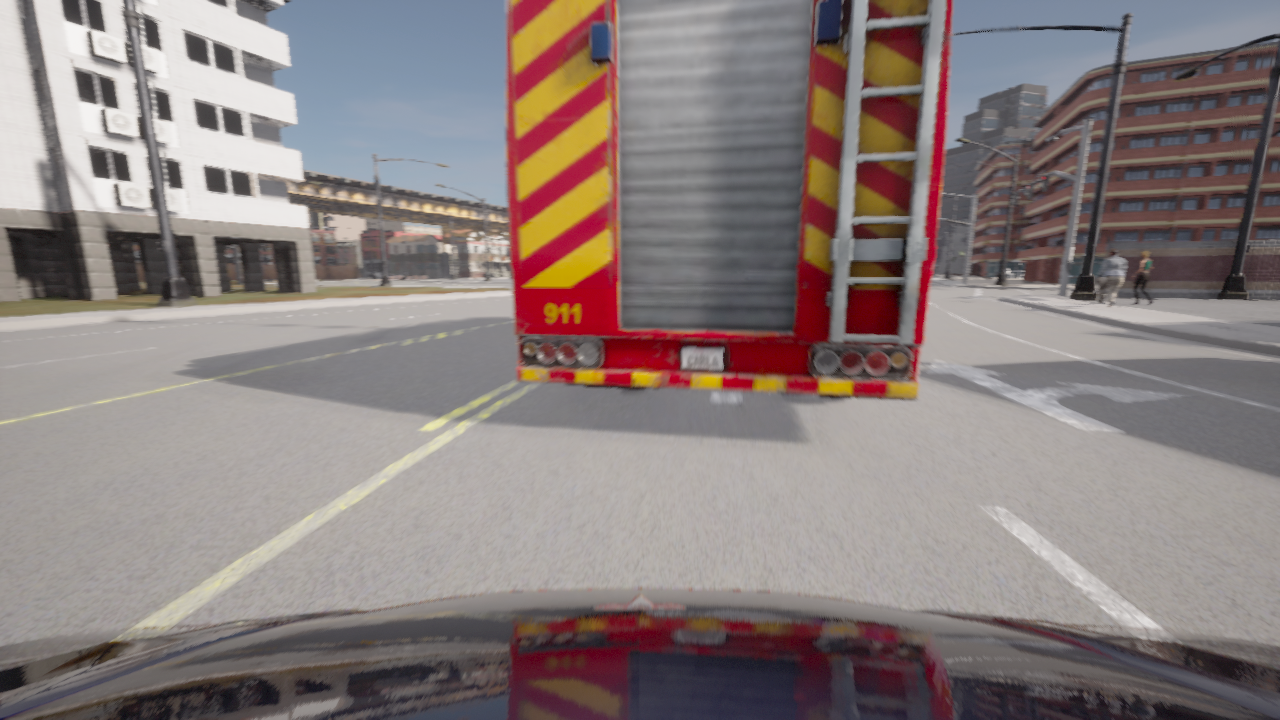cyclist: (505, 0, 952, 399), (0, 588, 1279, 719), (374, 272, 397, 278), (400, 272, 412, 278)
pedestrian: (1096, 249, 1125, 307), (1130, 250, 1153, 305)
